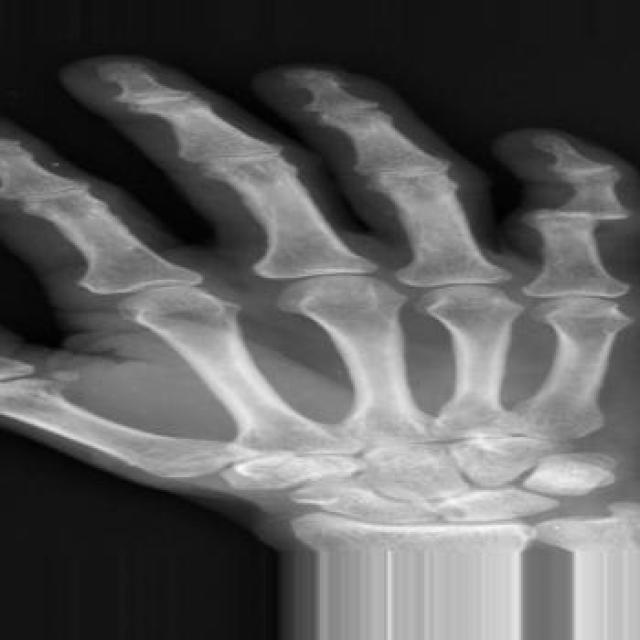Fracture: (520, 195, 592, 233)
